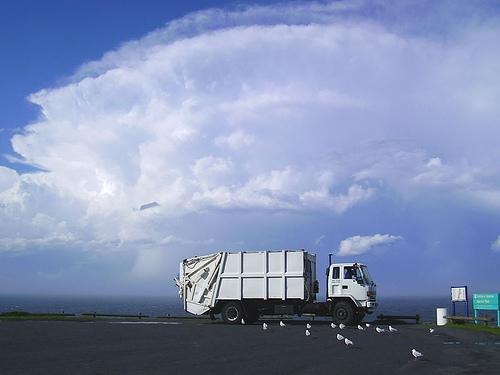truck: (174, 248, 379, 328)
